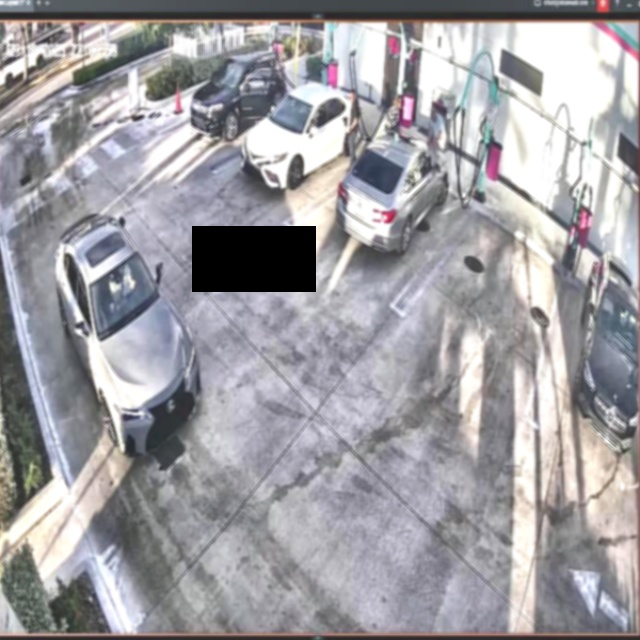Car: (53, 209, 200, 455), (336, 133, 447, 250), (242, 80, 357, 185)
